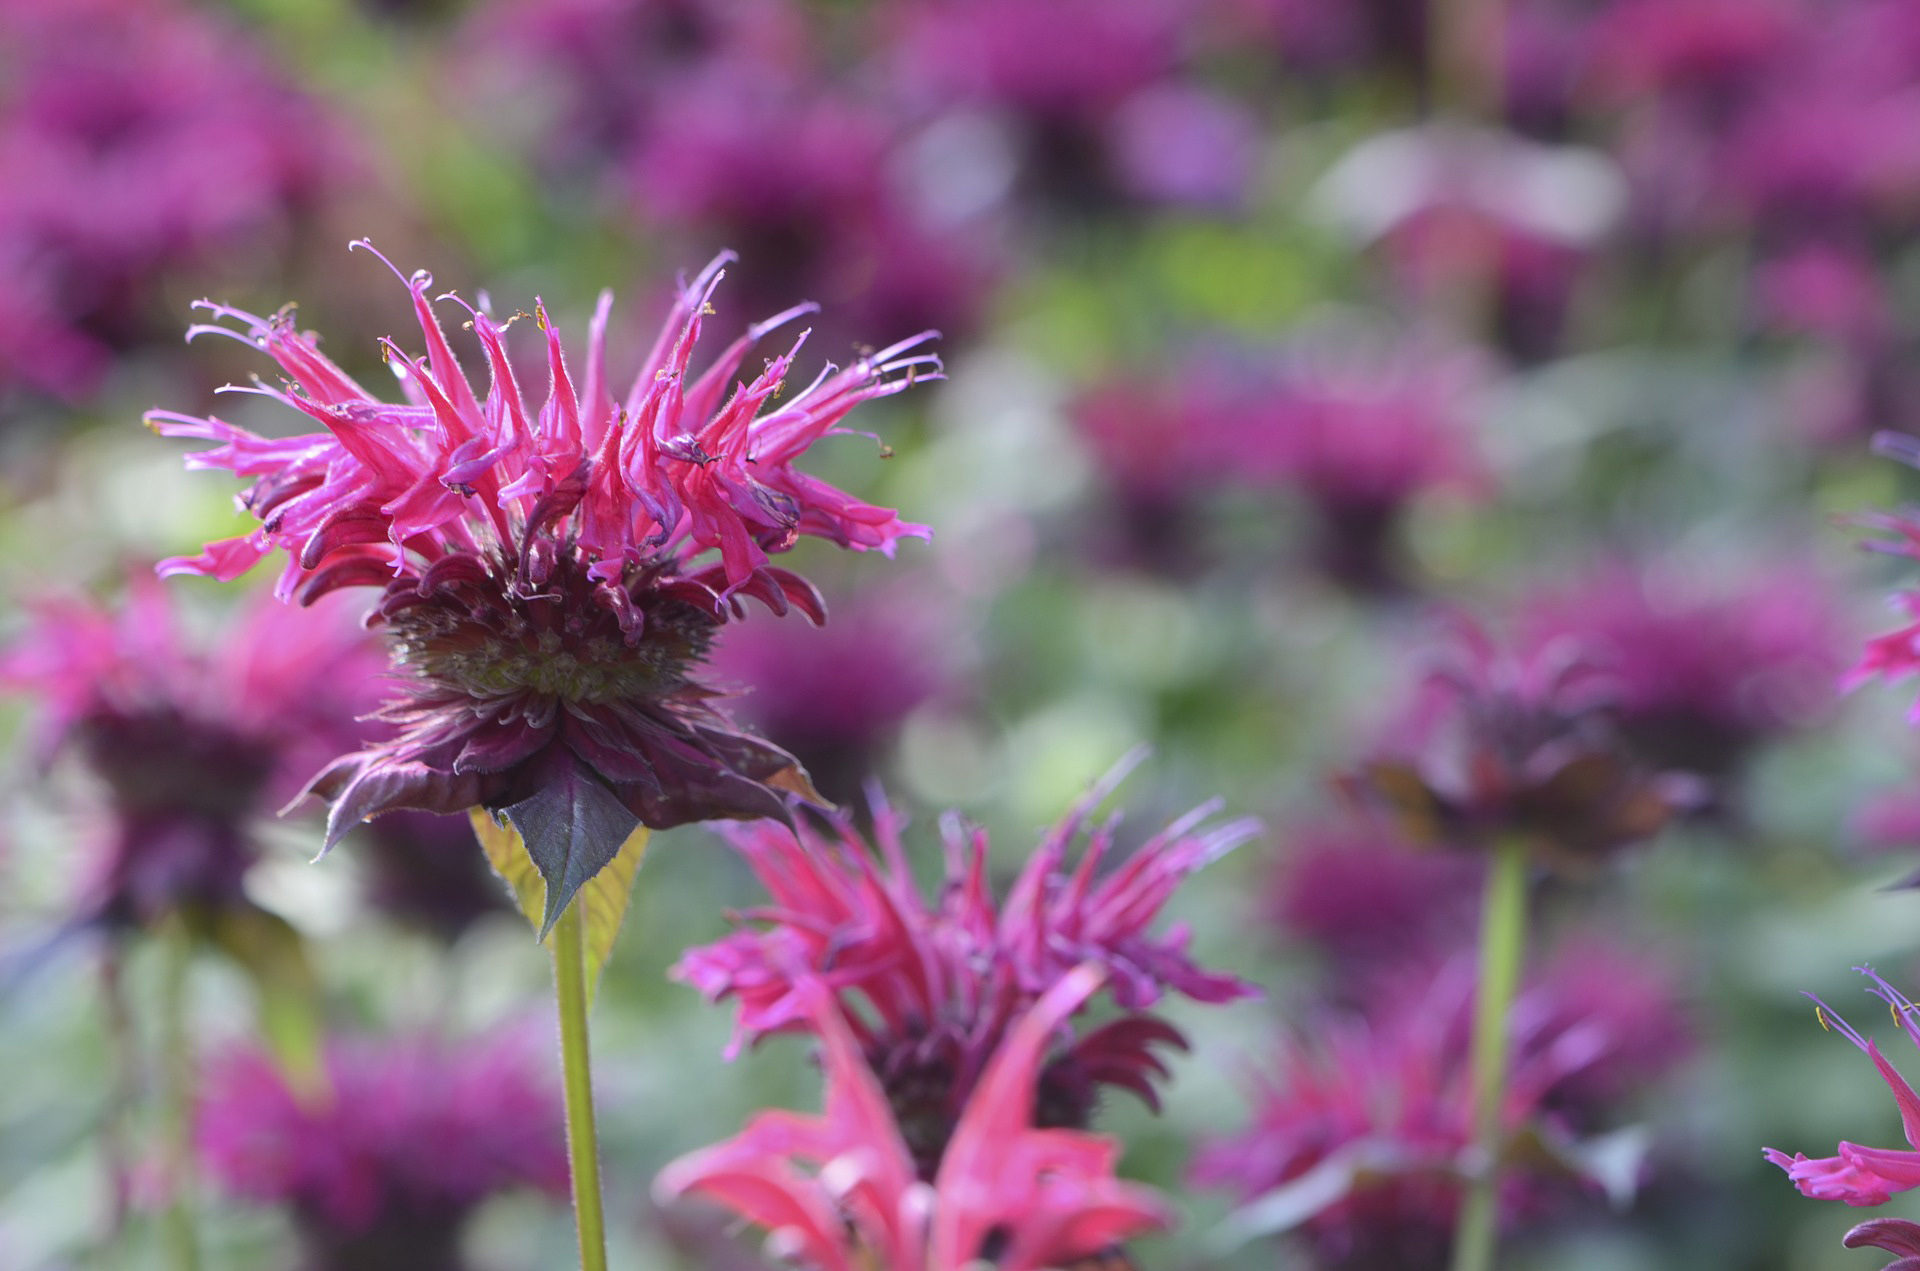thistle: (159, 230, 902, 882)
